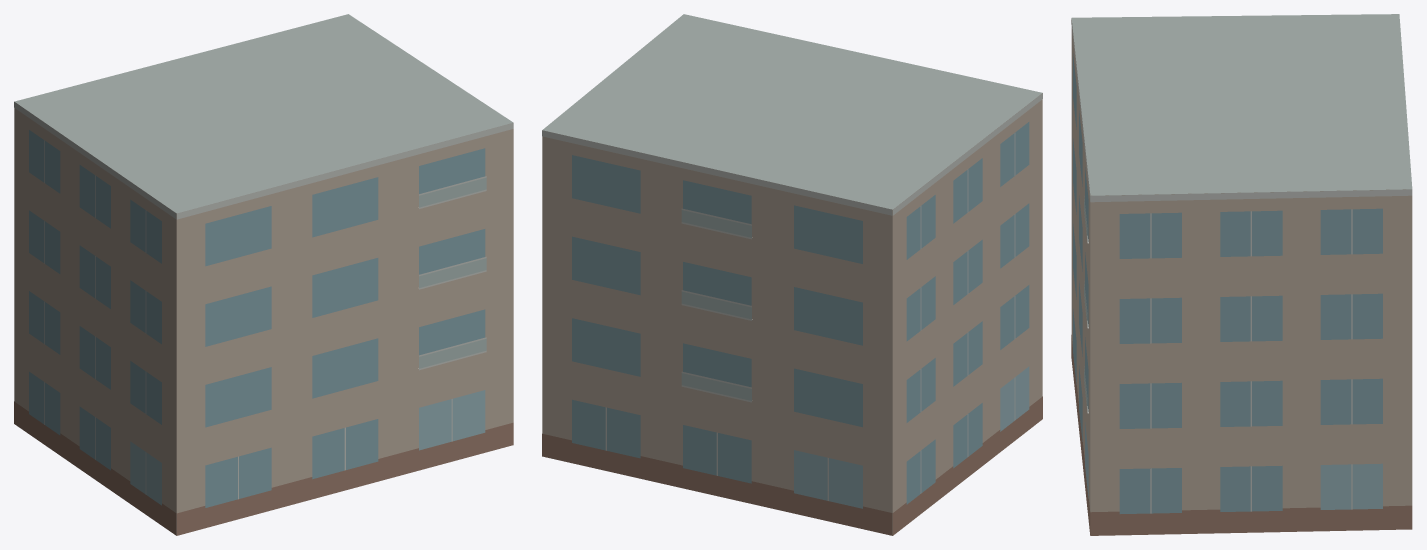
The model's file is survey-upis-33033852.glb.
3 views of the same model, side by side, from view 1: azimuth 30°, elevation 25°; view 2: azimuth 150°, elevation 25°; view 3: azimuth 270°, elevation 25° (orthographic). The views are drawn at different scales.
Visible parts, largest first — view 1: survey-upis-33033852.tmp; view 2: survey-upis-33033852.tmp; view 3: survey-upis-33033852.tmp.
Boxes of the visible parts, box(x1,y1,x2,y2) form: survey-upis-33033852.tmp: box(14, 14, 513, 535); survey-upis-33033852.tmp: box(542, 14, 1042, 535); survey-upis-33033852.tmp: box(1071, 14, 1412, 535).
Bounding box in the file's own units: 14.68 × 12.8 × 11.64.
